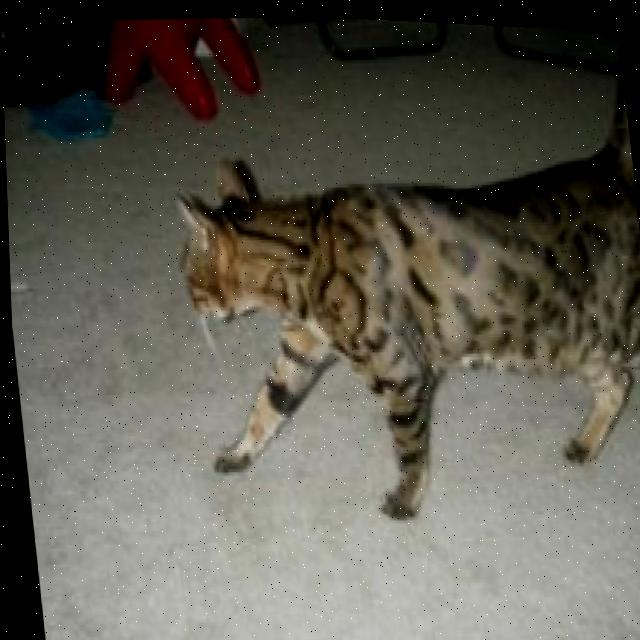Bengal: (144, 6, 640, 546)
